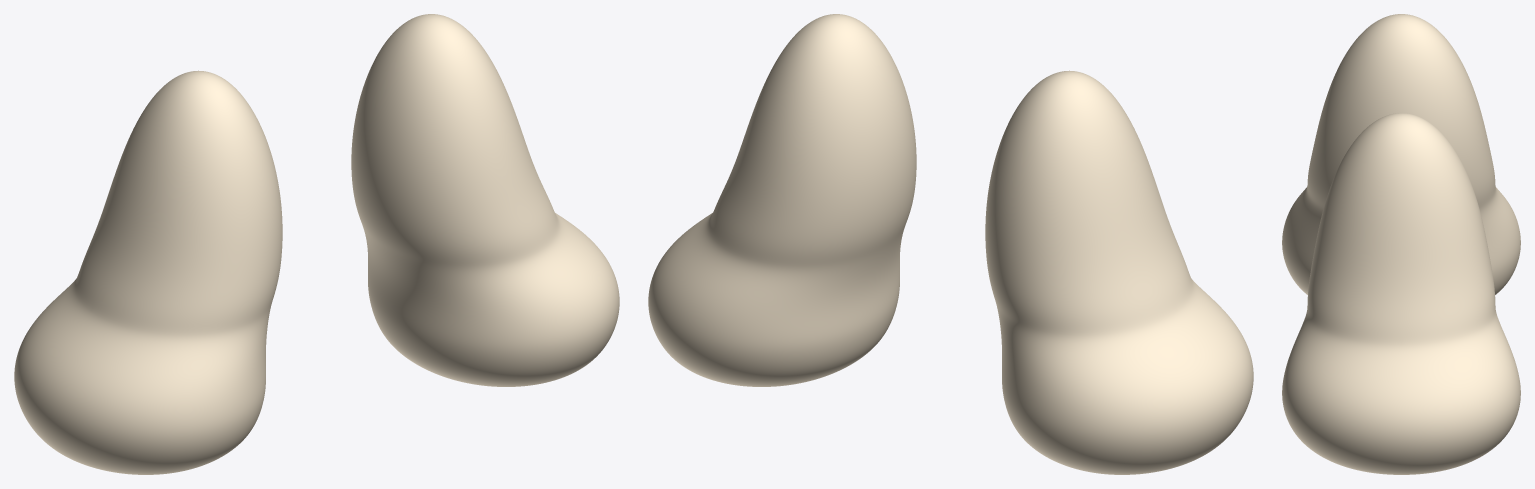
File: legs.glb
3 renders of one model, left to right at view 1: azimuth 30°, elevation 25°; view 2: azimuth 150°, elevation 25°; view 3: azimuth 270°, elevation 25°, orthographic. The views are drawn at different scales.
Parts seen in each view (by area): view 1: Leg_L, Leg_R; view 2: Leg_L, Leg_R; view 3: Leg_R, Leg_L.
Part boxes in pixels (x1,y1,x2,y2): Leg_L: [14, 70, 282, 474]; Leg_R: [351, 14, 619, 386]; Leg_L: [985, 70, 1253, 474]; Leg_R: [648, 14, 916, 386]; Leg_R: [1282, 113, 1520, 474]; Leg_L: [1282, 14, 1520, 294].
Size of the model in its own units: 54.7 by 33.02 by 23.
